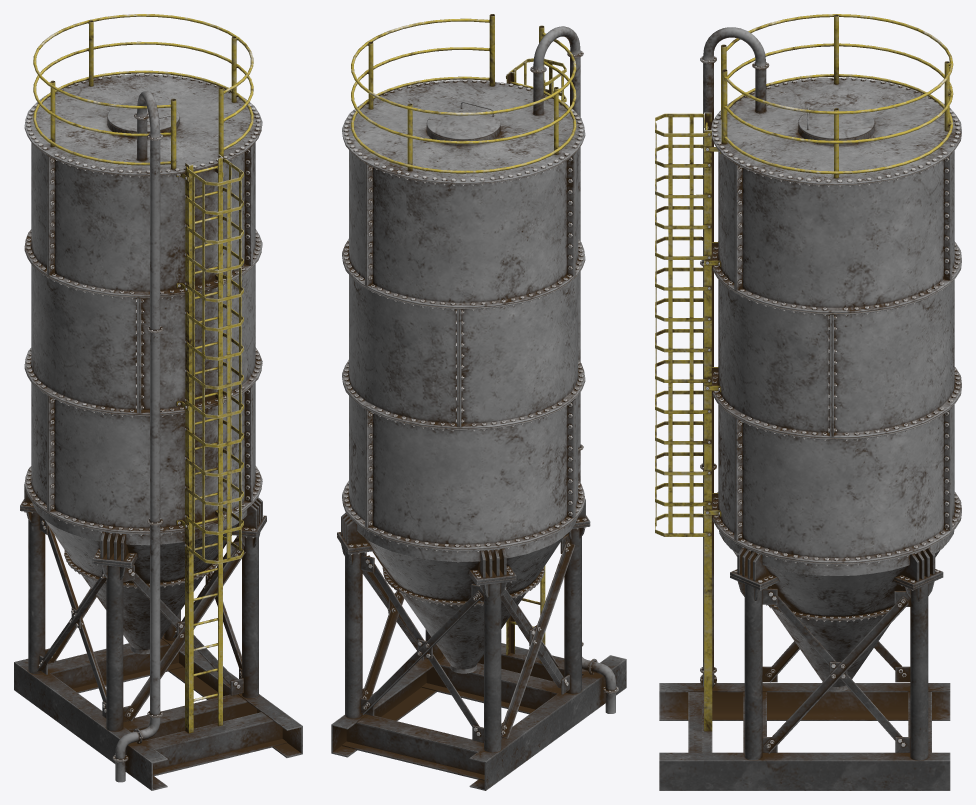
Rendered from silo.glb.
3 views of the same model, side by side, from view 1: azimuth 30°, elevation 25°; view 2: azimuth 150°, elevation 25°; view 3: azimuth 270°, elevation 25° (orthographic). The views are drawn at different scales.
Parts seen in each view (by area): view 1: polySurface895, polySurface894, polySurface311, polySurface2363, silo_texture:polySurface2505, polySurface310, polySurface599, polySurface1787, polySurface1227, polySurface267, polySurface893, polySurface600 (+23 smaller); view 2: polySurface895, polySurface894, polySurface311, polySurface2363, polySurface310, silo_texture:polySurface2505, polySurface599, polySurface1785, polySurface893, polySurface178, polySurface1786, polySurface495 (+16 smaller); view 3: polySurface895, polySurface894, polySurface311, polySurface2363, polySurface600, polySurface599, polySurface310, silo_texture:polySurface2505, polySurface1226, polySurface893, polySurface495, polySurface351 (+15 smaller).
Part boxes in pixels (x1,y1,x2,y2): polySurface895: (24, 244, 262, 414); polySurface894: (24, 125, 262, 296); polySurface311: (24, 363, 262, 533); polySurface2363: (24, 74, 262, 175); silo_texture:polySurface2505: (33, 14, 253, 169); polySurface310: (24, 481, 262, 586); polySurface599: (14, 658, 167, 790); polySurface1787: (143, 712, 287, 775); polySurface1227: (185, 162, 193, 733); polySurface267: (106, 565, 123, 731); polySurface893: (64, 555, 217, 654); polySurface600: (161, 635, 302, 757); polySurface895: (342, 255, 585, 428); polySurface894: (342, 131, 585, 307); polySurface311: (342, 376, 585, 549); polySurface2363: (342, 80, 585, 183); polySurface310: (342, 497, 585, 604); silo_texture:polySurface2505: (351, 14, 576, 173); polySurface599: (469, 655, 626, 790); polySurface1785: (342, 714, 484, 780); polySurface893: (384, 572, 544, 673); polySurface178: (484, 583, 501, 752); polySurface1786: (421, 657, 561, 714); polySurface495: (345, 550, 362, 718); polySurface895: (712, 261, 961, 437); polySurface894: (712, 133, 961, 312); polySurface311: (712, 386, 961, 563); polySurface2363: (711, 77, 961, 184); polySurface600: (659, 752, 950, 790); polySurface599: (659, 683, 950, 720); polySurface310: (712, 511, 961, 619); silo_texture:polySurface2505: (721, 14, 953, 178); polySurface1226: (704, 128, 712, 731); polySurface893: (767, 604, 889, 691); polySurface495: (910, 584, 928, 760); polySurface351: (744, 584, 762, 760).
Bounding box in the file's own units: 0.0809 × 0.2514 × 0.099.
Materials: 2 (2 with a texture image).
